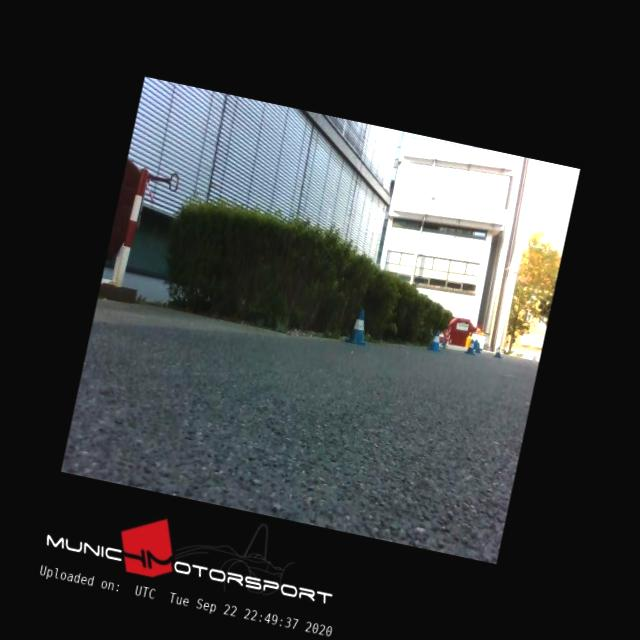blue_cone: (344, 307, 372, 346), (427, 328, 444, 352), (465, 338, 477, 353), (492, 344, 503, 358), (473, 341, 482, 354)
